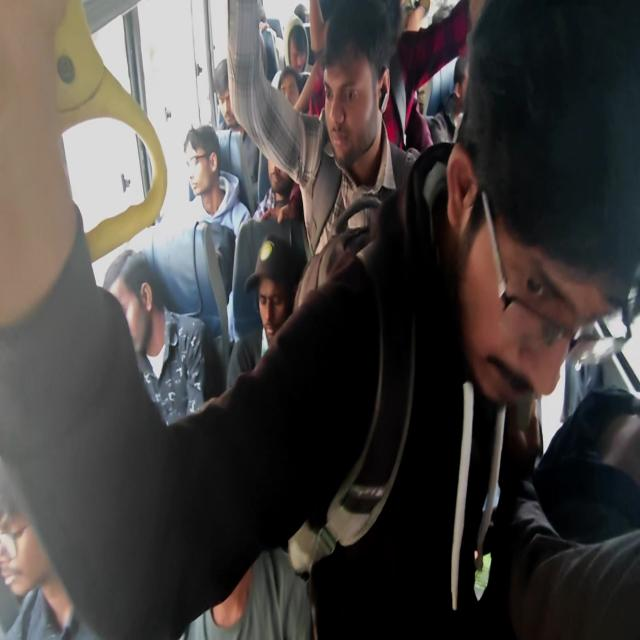person: (478, 56, 622, 414), (0, 422, 63, 583), (326, 42, 388, 182), (116, 264, 175, 380), (257, 240, 304, 356), (208, 463, 256, 574), (189, 128, 234, 222), (216, 60, 251, 127), (265, 135, 299, 196), (276, 72, 304, 136), (286, 15, 308, 80)
